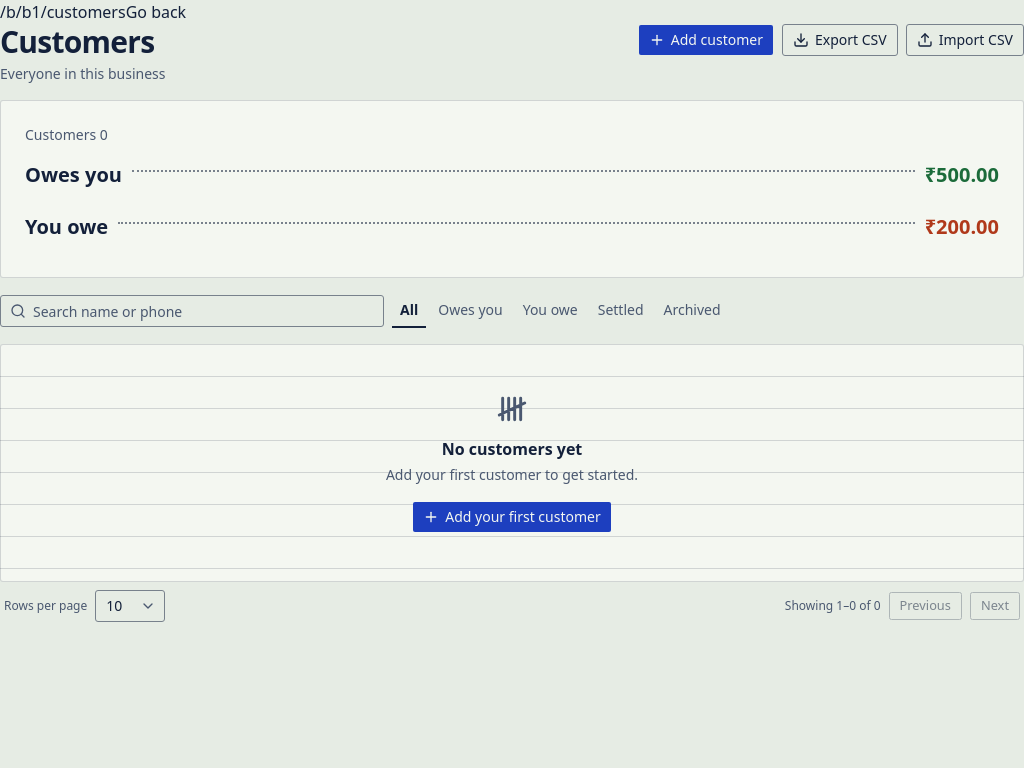
Test case: S-28 customers list › shows an empty state that invites the first customer
Expected: the text "No customers yet" is shown, [442,438,582,460]
Expected: the text "Add your first customer to get started." is shown, [386,465,638,484]
Step 1. Click the button "Add your first customer" → (512, 517), box [412,501,612,533]
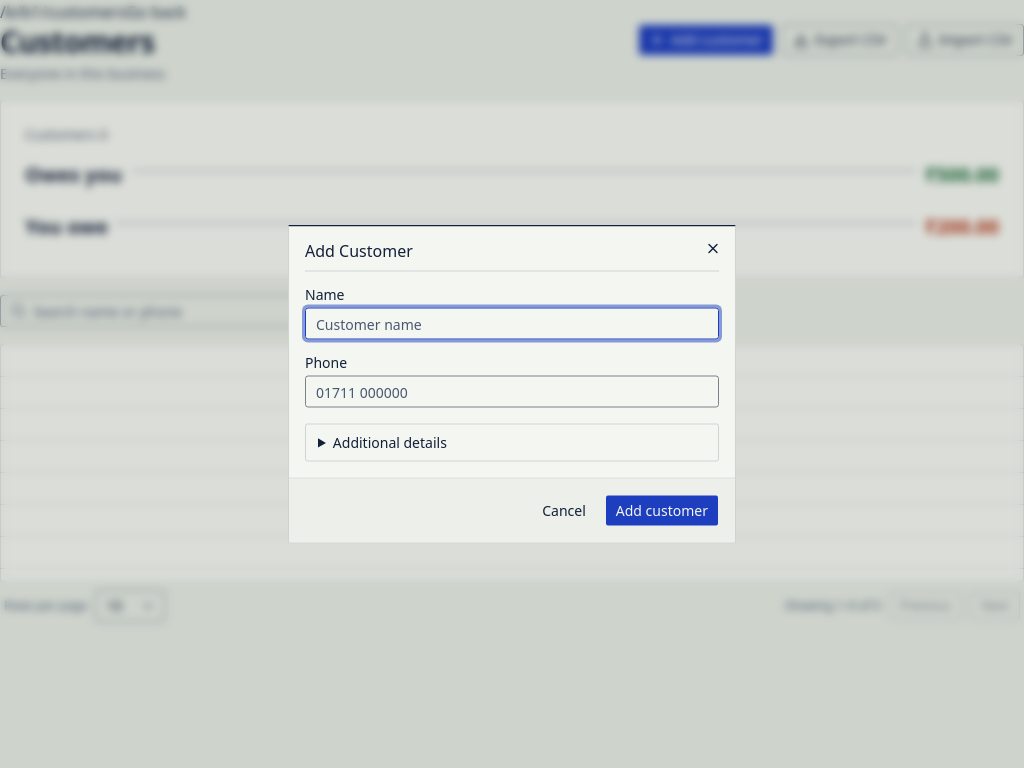
Result: the heading "Add Customer" is shown at [305,240,413,262]
